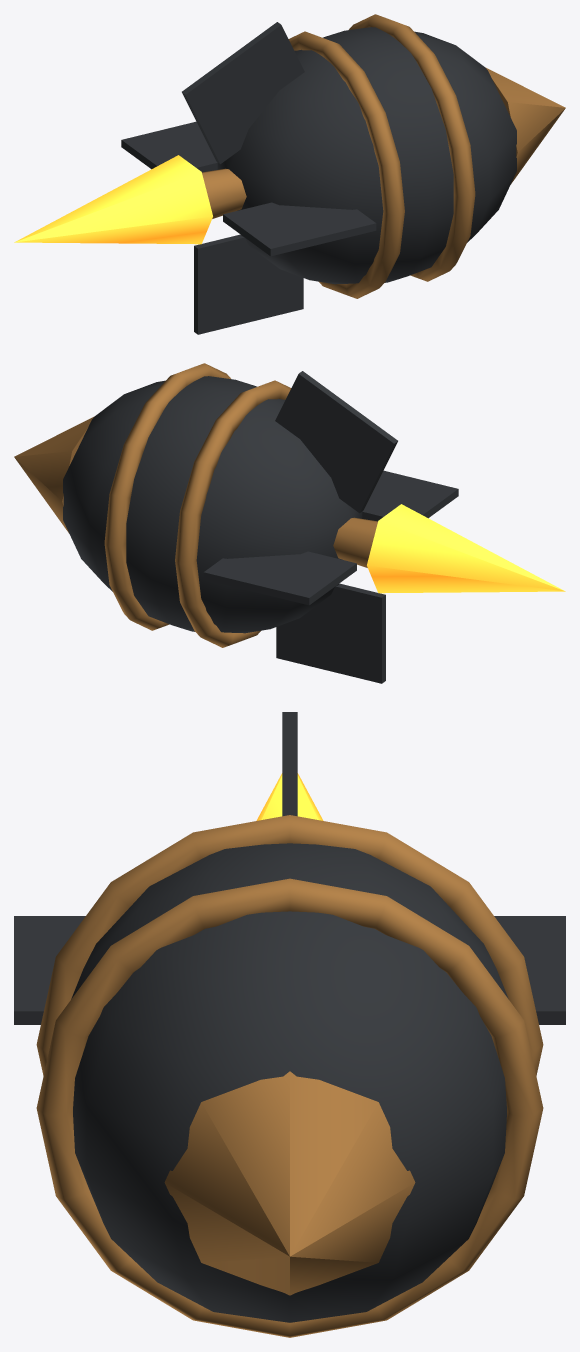
File: siege-shell.glb
3 renders of one model, top to bottom at view 1: azimuth 30°, elevation 25°; view 2: azimuth 150°, elevation 25°; view 3: azimuth 270°, elevation 25°, orthographic. The views are drawn at different scales.
Parts seen in each view (by area): view 1: Mesh_Body, Mesh_FuseFire, Mesh_Fin0, Mesh_Fin2, Mesh_BandB, Mesh_BandA, Mesh_Fin1, Mesh_Nose, Mesh_Fin3, Mesh_FuseTube; view 2: Mesh_Body, Mesh_FuseFire, Mesh_Fin0, Mesh_Fin2, Mesh_BandB, Mesh_BandA, Mesh_Fin3, Mesh_Nose, Mesh_Fin1, Mesh_FuseTube; view 3: Mesh_Body, Mesh_Nose, Mesh_BandA, Mesh_BandB, Mesh_Fin1, Mesh_Fin3, Mesh_Fin0, Mesh_FuseFire.
Boxes of the visible parts, x1,y1,x2,y2 form: Mesh_Body: (217, 27, 516, 284); Mesh_FuseFire: (14, 155, 212, 244); Mesh_Fin0: (182, 22, 304, 164); Mesh_Fin2: (194, 234, 303, 334); Mesh_BandB: (288, 31, 404, 298); Mesh_BandA: (349, 14, 475, 281); Mesh_Fin1: (223, 202, 376, 256); Mesh_Nose: (485, 67, 565, 183); Mesh_Fin3: (121, 121, 217, 172); Mesh_FuseTube: (202, 168, 246, 218); Mesh_Body: (63, 376, 362, 633); Mesh_FuseFire: (367, 504, 565, 593); Mesh_Fin0: (275, 371, 397, 513); Mesh_Fin2: (276, 583, 385, 683); Mesh_BandB: (175, 380, 291, 647); Mesh_BandA: (104, 363, 230, 630); Mesh_Fin3: (203, 551, 356, 605); Mesh_Nose: (14, 416, 94, 532); Mesh_Fin1: (362, 470, 458, 521); Mesh_FuseTube: (333, 517, 377, 567); Mesh_Body: (71, 843, 508, 1322); Mesh_Nose: (164, 1071, 415, 1295); Mesh_BandA: (36, 878, 543, 1337); Mesh_BandB: (36, 815, 543, 1075); Mesh_Fin1: (14, 916, 85, 1024); Mesh_Fin3: (494, 916, 565, 1024); Mesh_Fin0: (282, 712, 297, 816); Mesh_FuseFire: (256, 773, 323, 820).
Size of the model in its own units: 4.7 by 2.36 by 2.2.
